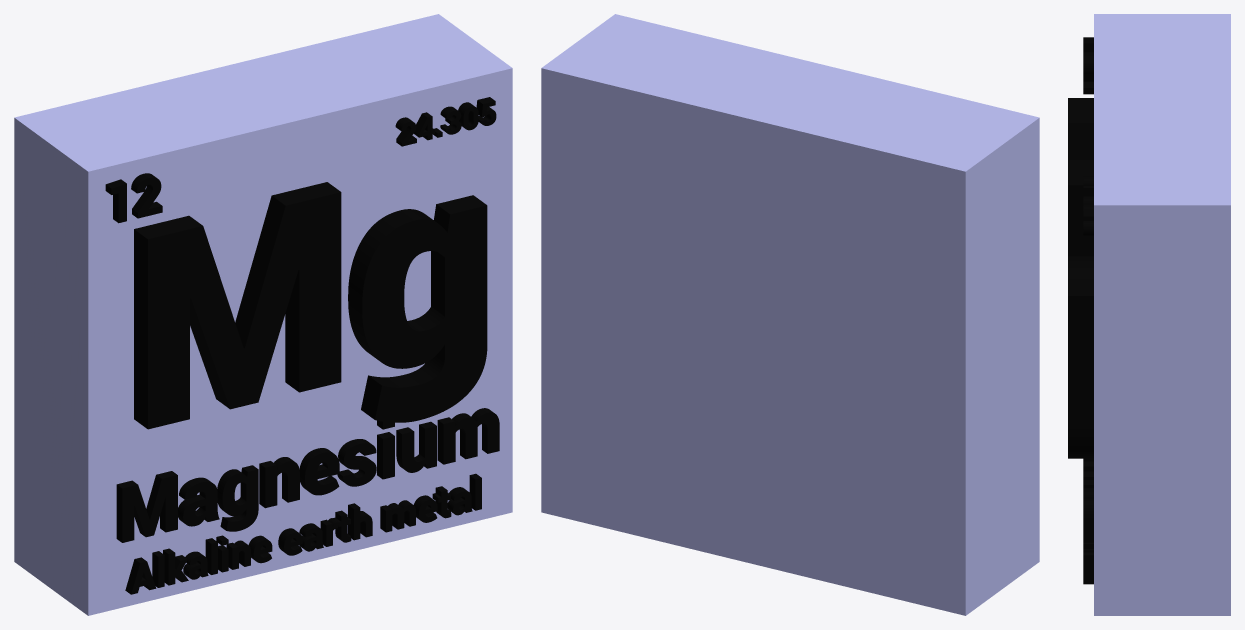
3 renders of one model, left to right at view 1: azimuth 30°, elevation 25°; view 2: azimuth 150°, elevation 25°; view 3: azimuth 270°, elevation 25°, orthographic. The views are drawn at different scales.
Parts seen in each view (by area): view 1: Cube, Text, Text.001, Text.002, Text.004, Text.003; view 2: Cube; view 3: Cube, Text, Text.001, Text.004, Text.003, Text.002.
Part boxes in pixels (left/top/right/bottom): Cube: left=14, top=14, right=512, bottom=615; Text: left=134, top=182, right=487, bottom=429; Text.001: left=116, top=408, right=499, bottom=542; Text.002: left=125, top=473, right=481, bottom=594; Text.004: left=395, top=97, right=496, bottom=146; Text.003: left=105, top=173, right=162, bottom=223; Cube: left=541, top=14, right=1039, bottom=615; Cube: left=1094, top=14, right=1230, bottom=615; Text: left=1068, top=98, right=1093, bottom=458; Text.001: left=1083, top=458, right=1093, bottom=542; Text.004: left=1083, top=176, right=1093, bottom=235; Text.003: left=1083, top=37, right=1093, bottom=94; Text.002: left=1083, top=542, right=1093, bottom=584.
Size of the model in its own units: 178 by 178 by 63.95.
